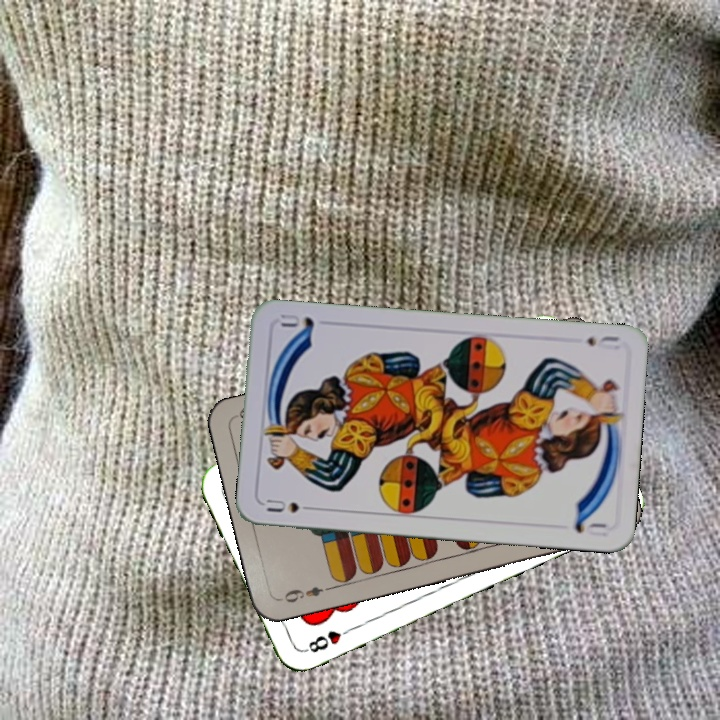E9: (276, 582, 335, 606)
H8: (301, 623, 356, 656)
SU: (262, 495, 319, 515), (582, 331, 623, 353)
